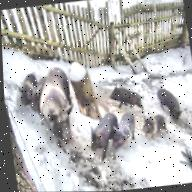boar: (38, 54, 81, 150), (110, 74, 153, 120), (107, 99, 142, 153), (84, 97, 113, 156), (153, 84, 184, 134), (16, 57, 39, 116), (140, 107, 162, 137), (153, 108, 178, 133)
